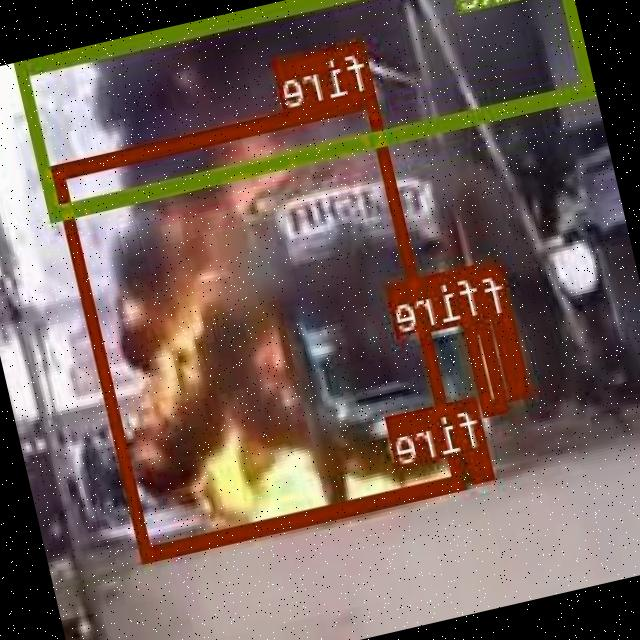fire: (54, 89, 467, 560), (464, 314, 510, 412), (494, 310, 532, 394), (468, 444, 495, 478)
smoke: (16, 0, 596, 218)
